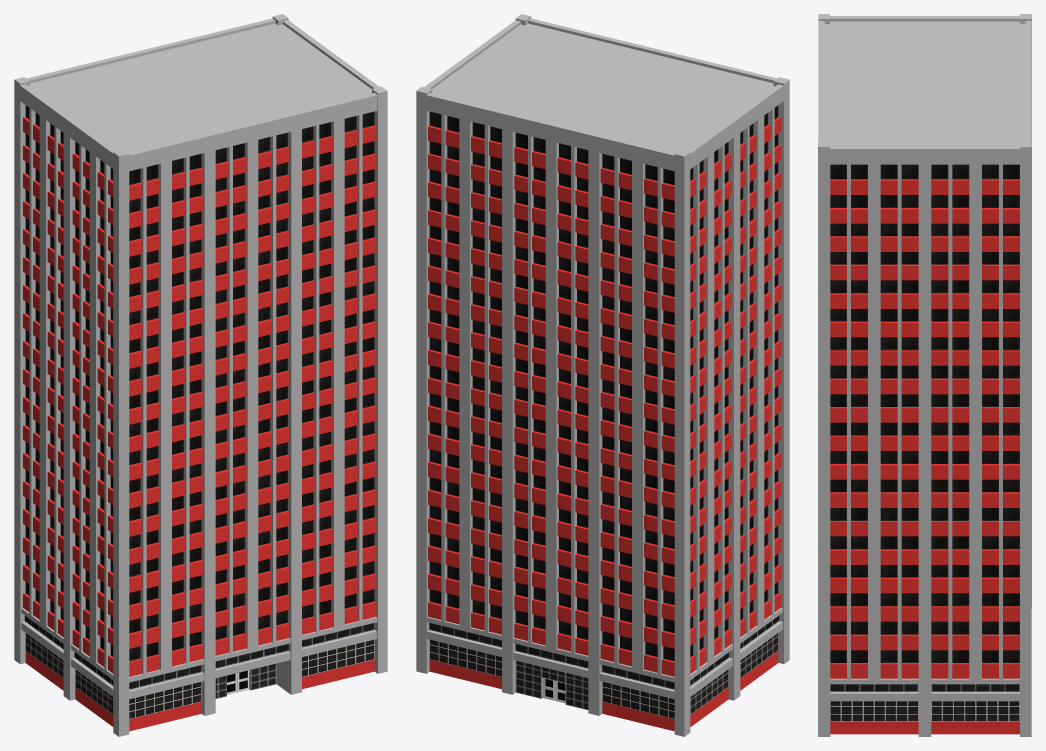
The model's file is Office-06.fbx.
3 views of the same model, side by side, from view 1: azimuth 30°, elevation 25°; view 2: azimuth 150°, elevation 25°; view 3: azimuth 270°, elevation 25° (orthographic).
Visible parts, largest first — view 1: Building; view 2: Building; view 3: Building.
Part boxes in pixels (left/top/right/bottom): Building: left=14, top=14, right=387, bottom=736; Building: left=416, top=14, right=789, bottom=736; Building: left=818, top=14, right=1031, bottom=736.
Size of what is drawn, in the model's own units: 30.14 by 62.2 by 20.44.
